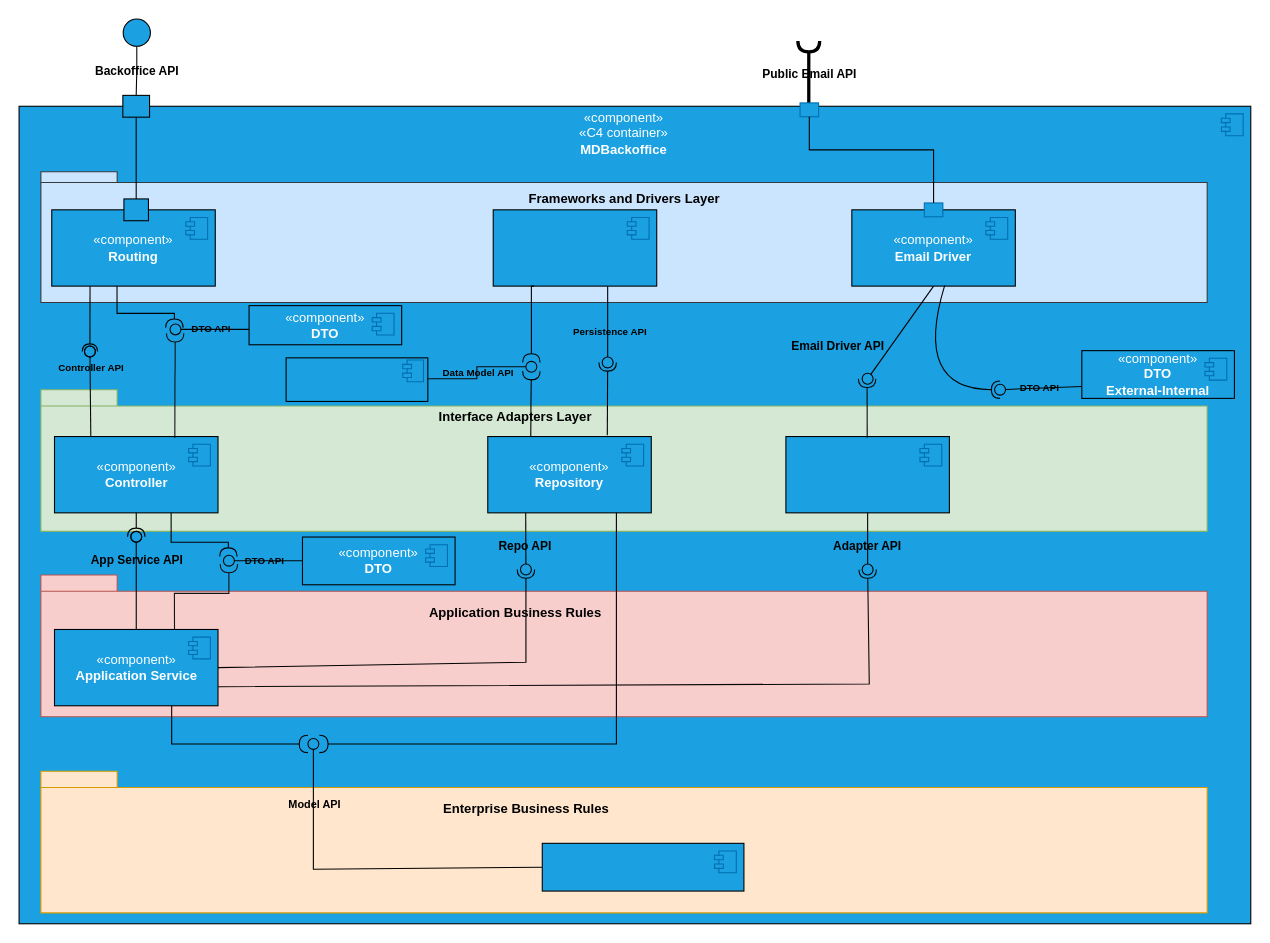
Some shapes in this 1270 by 943 pixel diagram are drawn without their labels. Each missing label, with the centre of its shape:
«component» Adapter: pixel 867 474
«component» Data Model: pixel 356 379
«component» Domain Model (DDD): pixel 642 866
«component» Persistence: pixel 574 247
